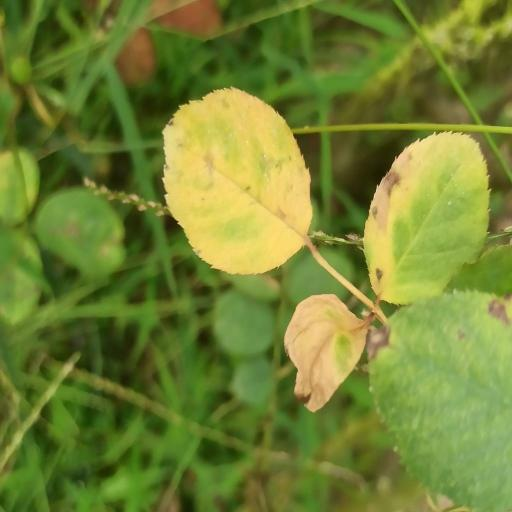thrip: (369, 292, 512, 512), (163, 89, 312, 273), (364, 132, 489, 304), (284, 294, 367, 412)
